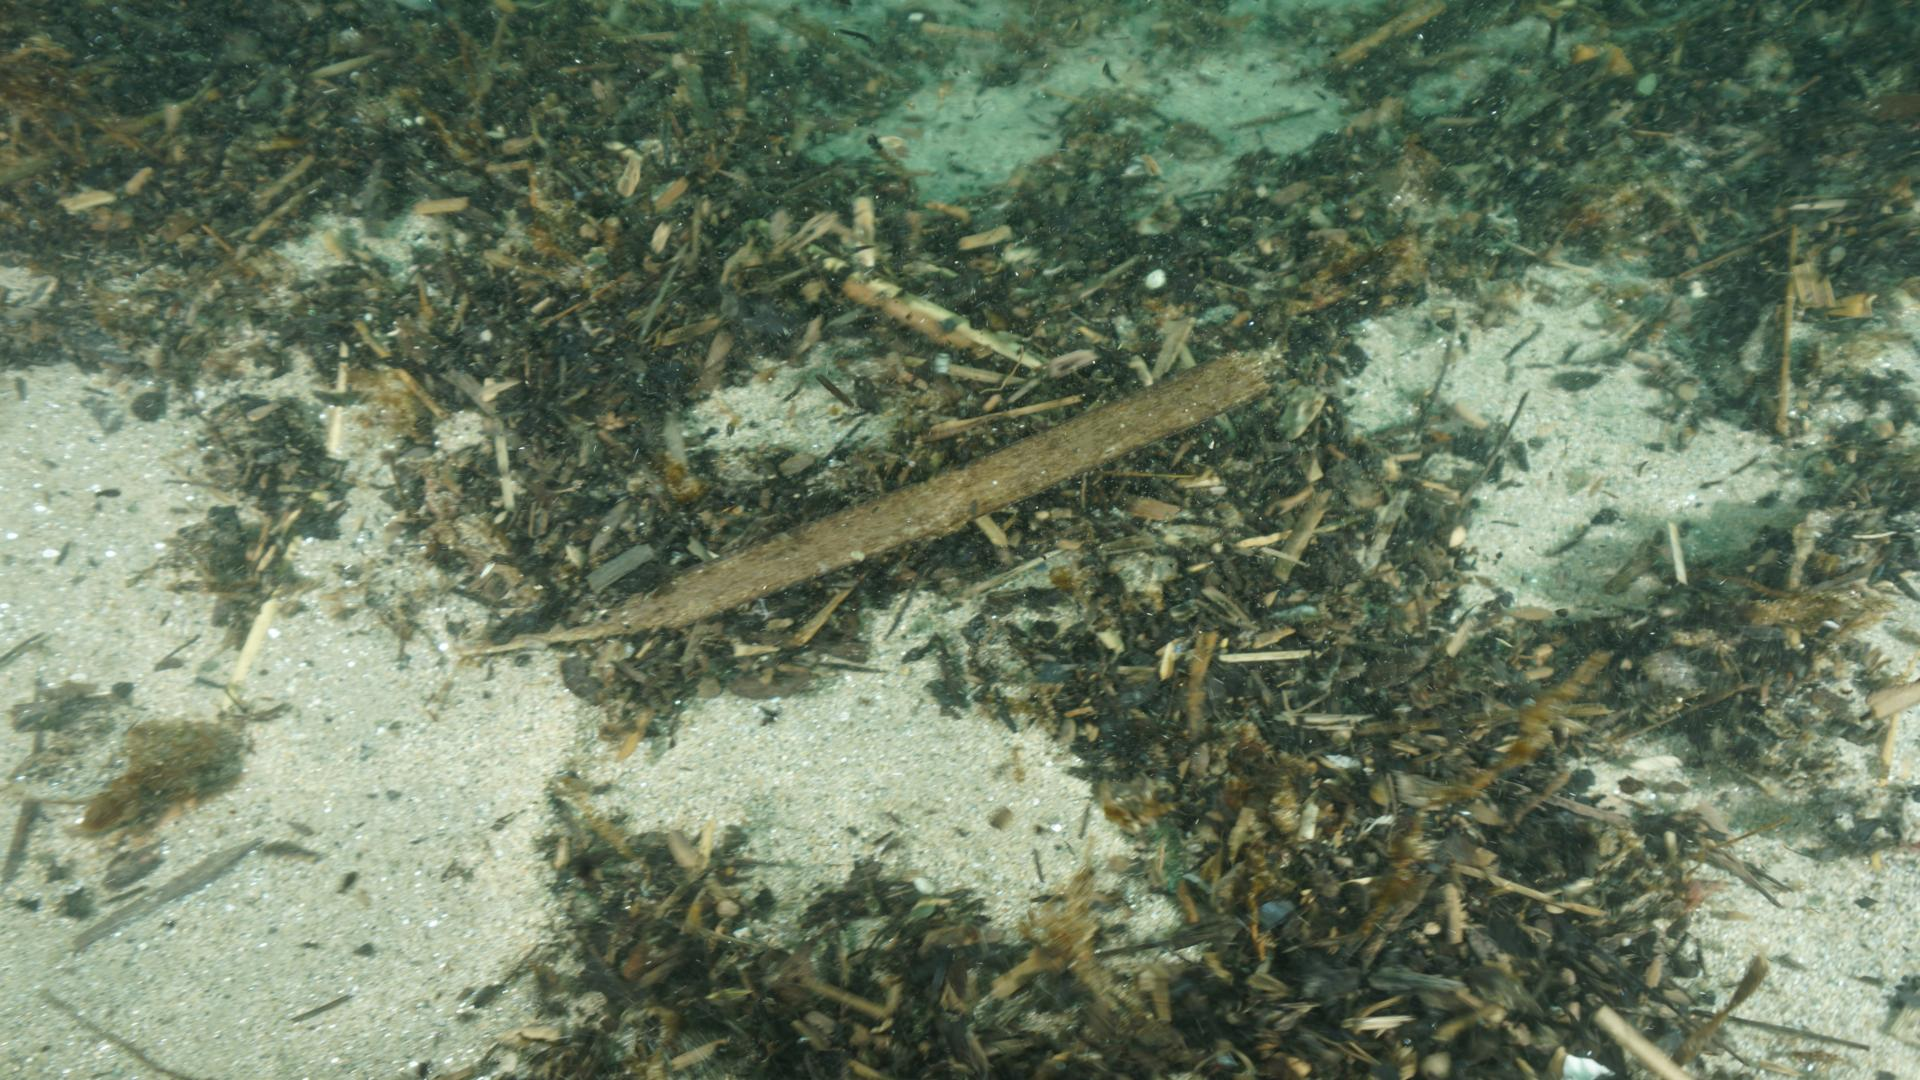wood: (451, 344, 1278, 654)
